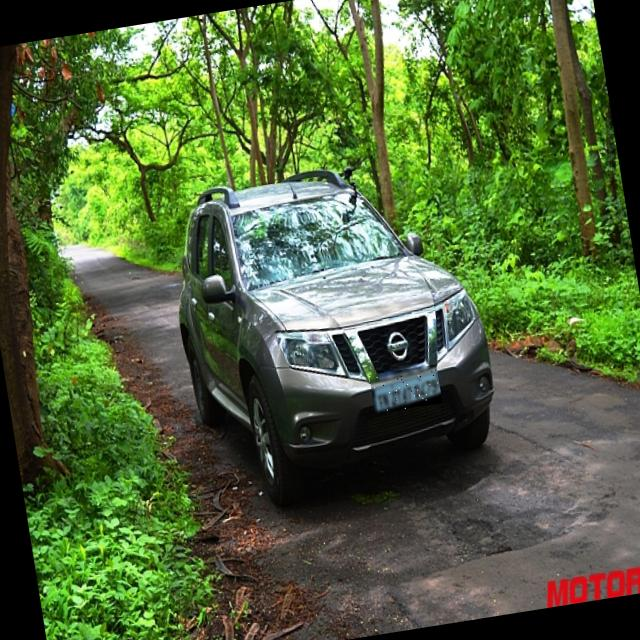Plate: (371, 366, 444, 415)
